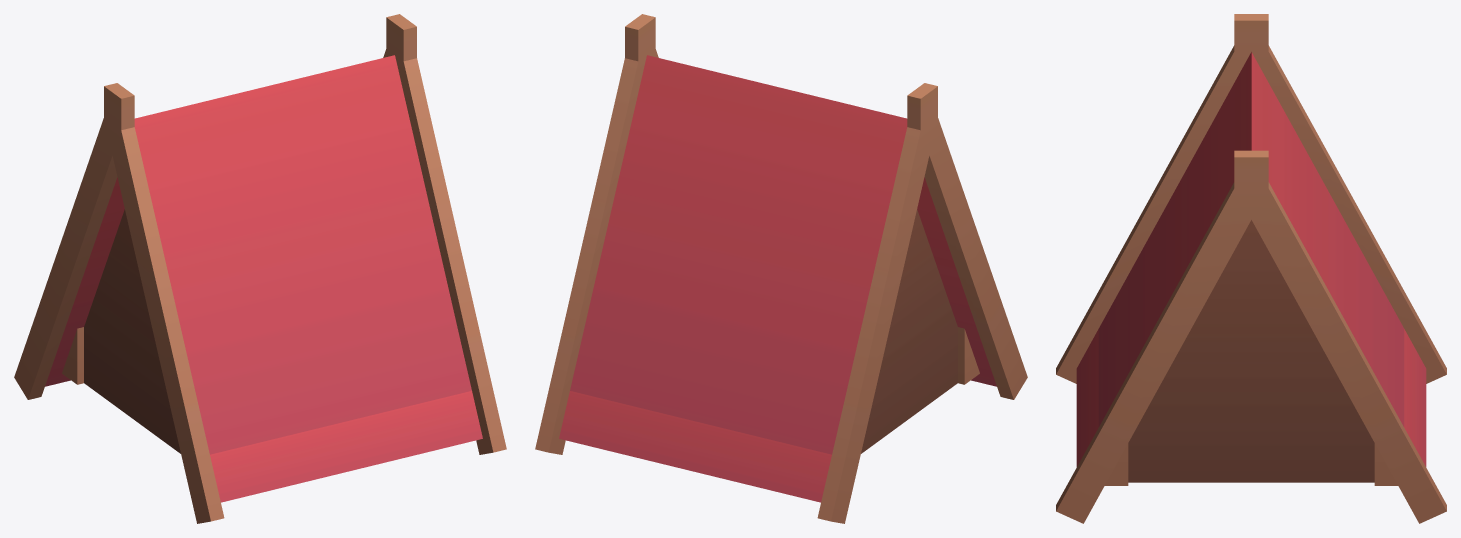
The model's file is roof-high-gable-detail.glb.
3 views of the same model, side by side, from view 1: azimuth 30°, elevation 25°; view 2: azimuth 150°, elevation 25°; view 3: azimuth 270°, elevation 25° (orthographic).
Parts seen in each view (by area): view 1: roof-high-gable-detail; view 2: roof-high-gable-detail; view 3: roof-high-gable-detail.
Boxes of the visible parts, <box> form: roof-high-gable-detail: <box>14,14,506,523</box>; roof-high-gable-detail: <box>535,14,1027,523</box>; roof-high-gable-detail: <box>1056,14,1446,523</box>.
Bounding box in the file's own units: 1.1 × 1.31 × 1.27.
1 material, 1 textured.
